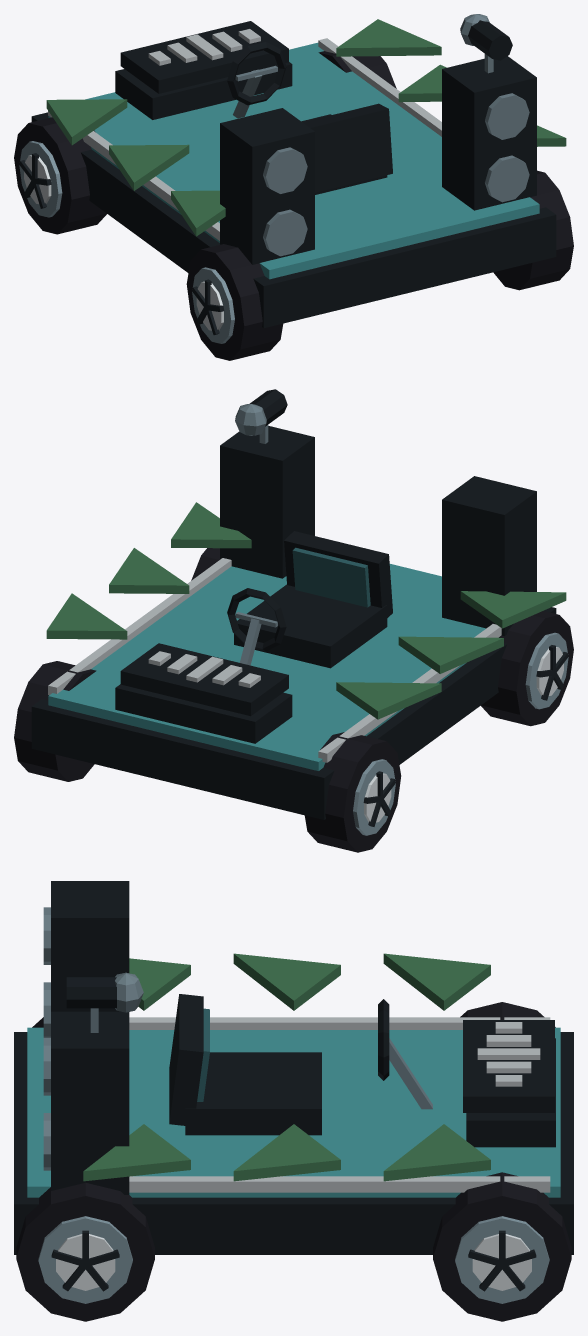
The model's file is kart.glb.
3 renders of one model, top to bottom at view 1: azimuth 30°, elevation 25°; view 2: azimuth 150°, elevation 25°; view 3: azimuth 270°, elevation 25°, orthographic. The views are drawn at different scales.
Parts seen in each view (by area): view 1: identity-stage-stage-platform-and-pa-towers, identity-stage-motif-leaves, identity-stage-driver-cockpit, wheel-rear-left, wheel-front-left, identity-stage-motif-equalizer, wheel-rear-right, identity-stage-motif-microphone, wheel-front-right; view 2: identity-stage-stage-platform-and-pa-towers, identity-stage-driver-cockpit, identity-stage-motif-leaves, wheel-front-left, wheel-rear-left, identity-stage-motif-equalizer, wheel-front-right, identity-stage-motif-microphone; view 3: identity-stage-stage-platform-and-pa-towers, identity-stage-motif-leaves, identity-stage-driver-cockpit, wheel-front-right, wheel-rear-right, identity-stage-motif-equalizer, identity-stage-motif-microphone, wheel-front-left.
Boxes of the visible parts, left/top/right/bottom form: identity-stage-stage-platform-and-pa-towers: left=31, top=38, right=556, bottom=328; identity-stage-motif-leaves: left=46, top=19, right=566, bottom=236; identity-stage-driver-cockpit: left=227, top=42, right=392, bottom=194; wheel-rear-left: left=186, top=244, right=283, bottom=360; wheel-front-left: left=14, top=117, right=106, bottom=234; identity-stage-motif-equalizer: left=120, top=21, right=288, bottom=93; wheel-rear-right: left=493, top=170, right=573, bottom=290; identity-stage-motif-microphone: left=460, top=14, right=512, bottom=73; wheel-front-right: left=318, top=51, right=396, bottom=88; identity-stage-stage-platform-and-pa-towers: left=31, top=426, right=556, bottom=819; identity-stage-driver-cockpit: left=227, top=531, right=392, bottom=668; identity-stage-motif-leaves: left=46, top=502, right=566, bottom=719; wheel-front-left: left=304, top=732, right=401, bottom=852; wheel-rear-left: left=481, top=611, right=573, bottom=726; identity-stage-motif-equalizer: left=120, top=643, right=288, bottom=716; wheel-front-right: left=14, top=661, right=96, bottom=781; identity-stage-motif-microphone: left=235, top=389, right=287, bottom=443; identity-stage-stage-platform-and-pa-towers: left=14, top=881, right=573, bottom=1254; identity-stage-motif-leaves: left=83, top=953, right=490, bottom=1181; identity-stage-driver-cockpit: left=169, top=994, right=432, bottom=1135; wheel-front-right: left=433, top=1172, right=571, bottom=1321; wheel-rear-right: left=16, top=1182, right=154, bottom=1321; identity-stage-motif-equalizer: left=463, top=1020, right=554, bottom=1112; identity-stage-motif-microphone: left=66, top=972, right=143, bottom=1032; wheel-front-left: left=460, top=1002, right=555, bottom=1027.
Bounding box in the file's own units: 2.3 × 1.57 × 2.5.
